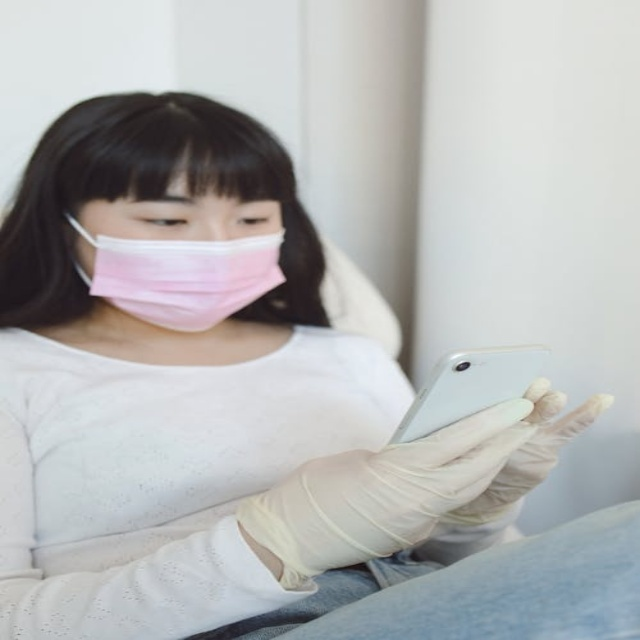Guantes: (233, 393, 545, 596), (415, 375, 623, 550)
Mascara: (64, 209, 289, 331)
Sin_gafas: (140, 217, 189, 227), (238, 216, 271, 226)
